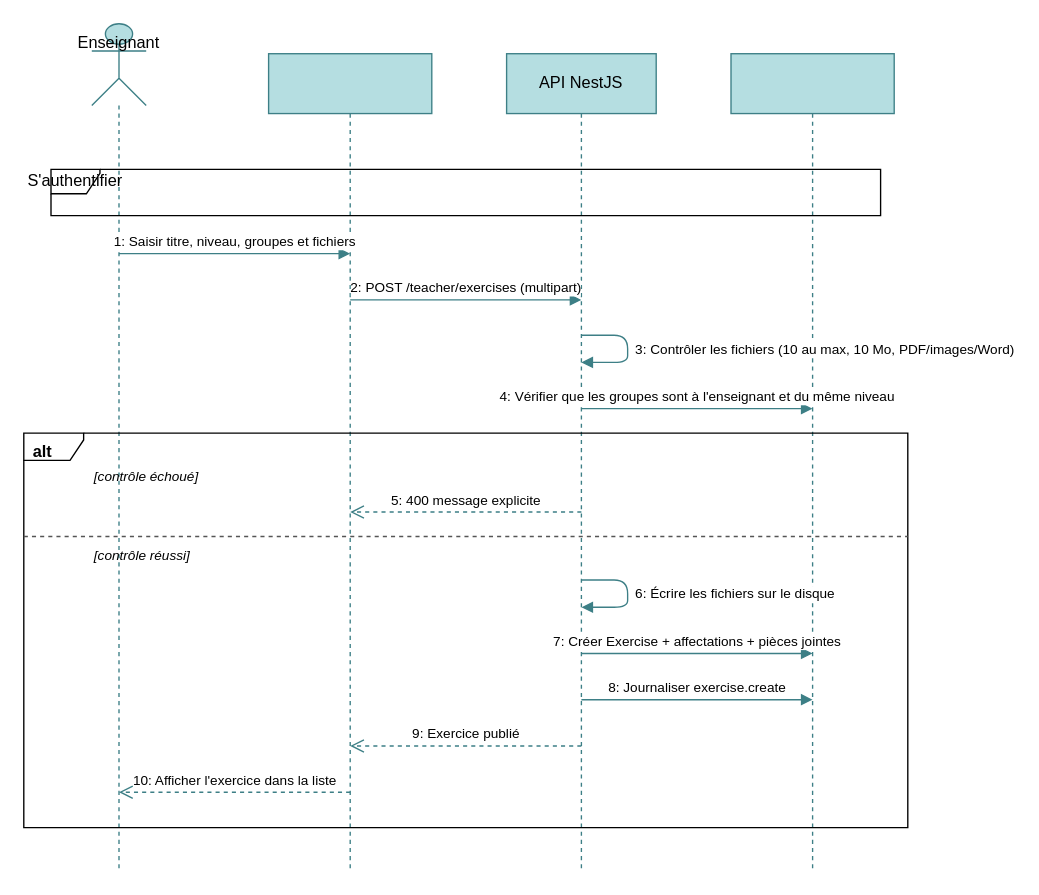
Some shapes in this 1039 by 895 pixel diagram are drawn without their labels. Here are the shapes that lost their labels. From the top down, the box of each, then its label:
(267, 52, 432, 871): Interface React
(730, 52, 894, 871): Base de données
